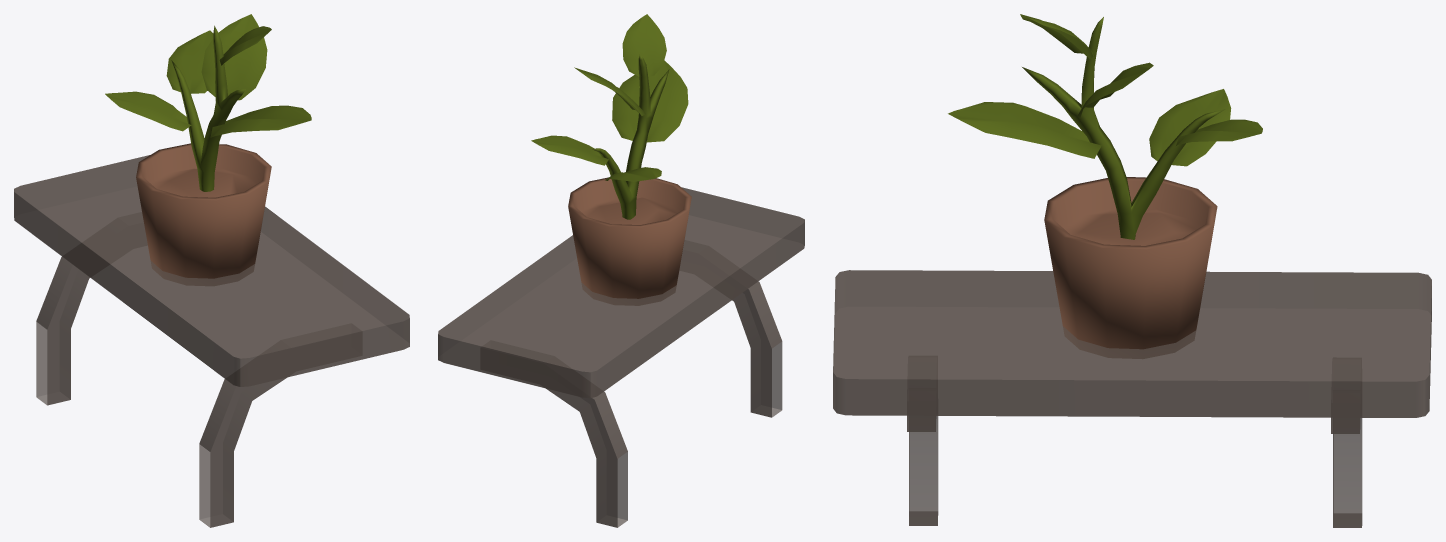
3 renders of one model, left to right at view 1: azimuth 30°, elevation 25°; view 2: azimuth 150°, elevation 25°; view 3: azimuth 270°, elevation 25°, orthographic. The views are drawn at different scales.
Visible parts, largest first — view 1: Cylinder003.001; view 2: Cylinder003.001; view 3: Cylinder003.001.
Boxes of the visible parts, <box> form: Cylinder003.001: <box>14,14,409,527</box>; Cylinder003.001: <box>438,14,804,527</box>; Cylinder003.001: <box>833,14,1431,527</box>.
Size of the model in its own units: 34.46 by 81.02 by 78.17.
